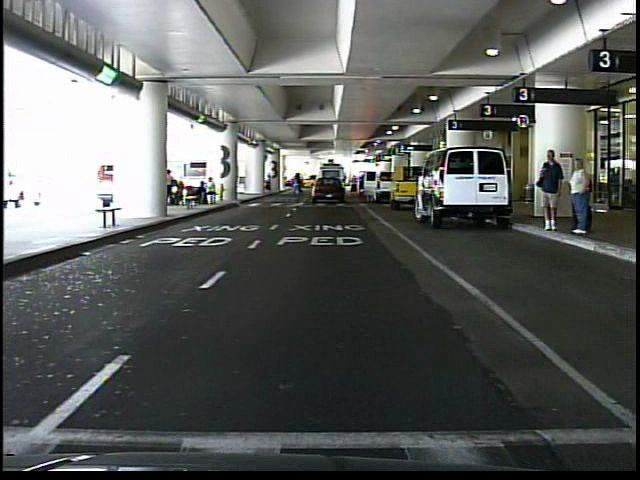person: (565, 153, 595, 240), (536, 146, 565, 235), (348, 168, 362, 200), (265, 169, 276, 194)
